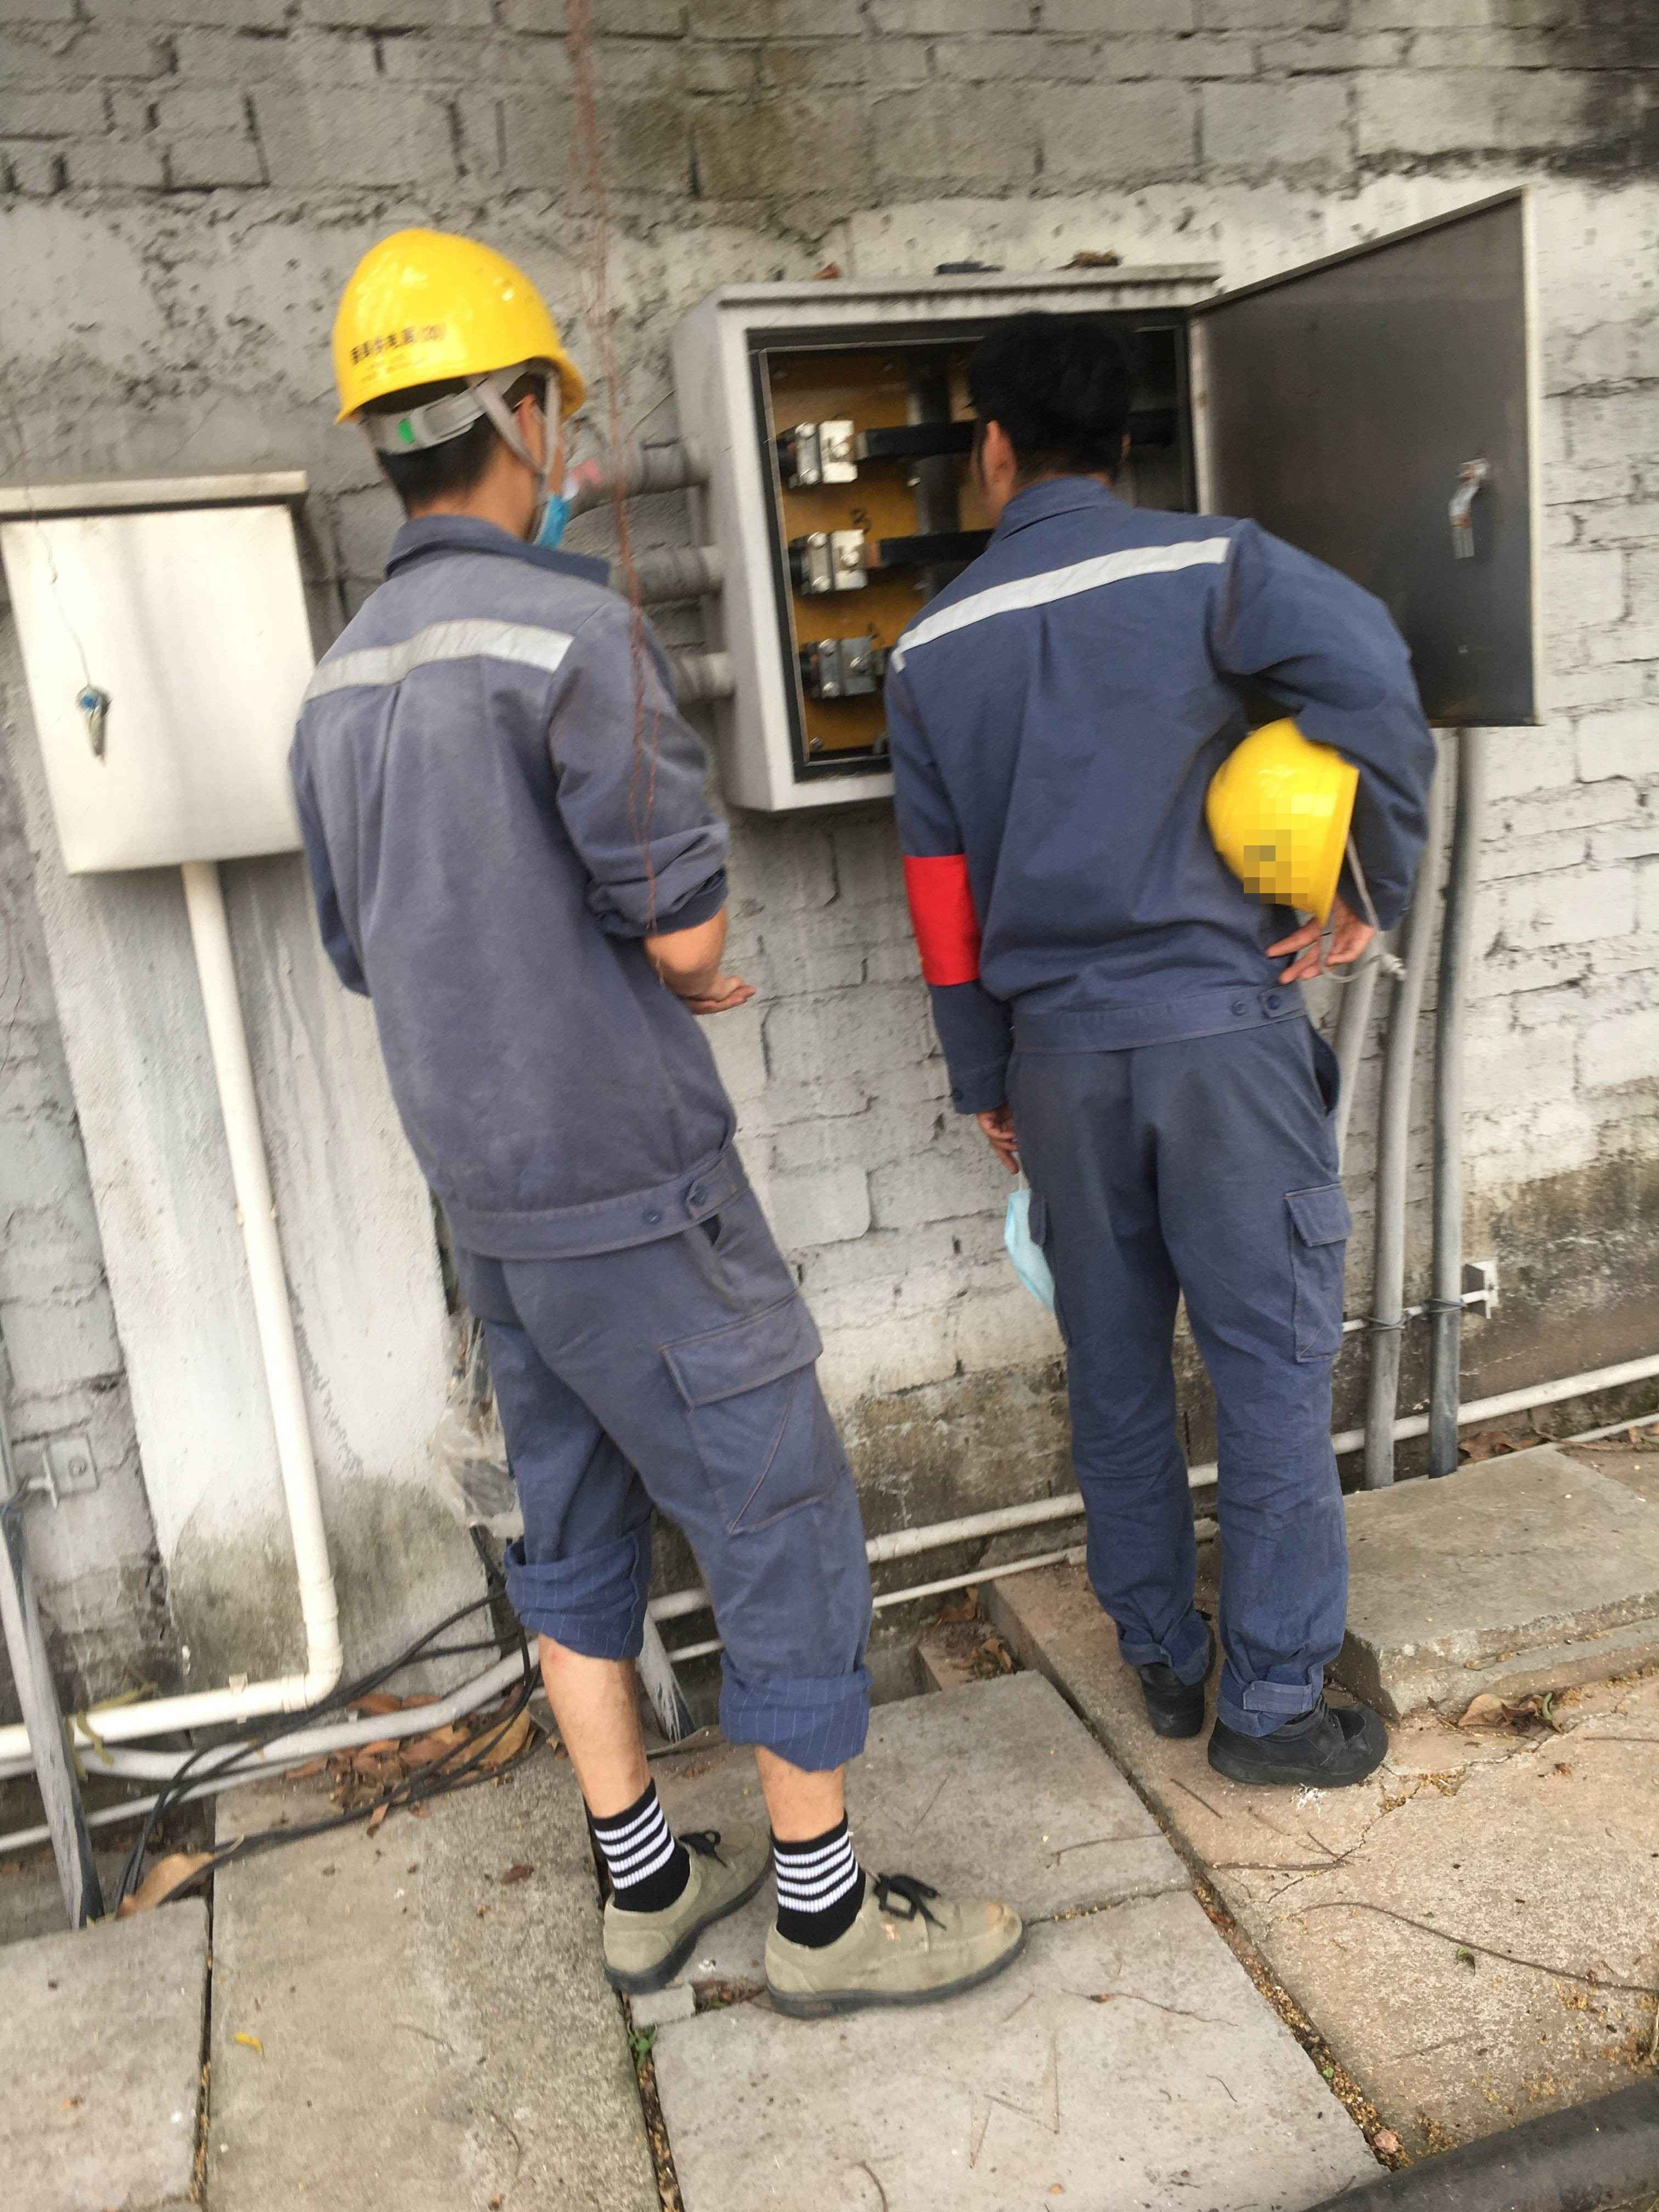downsuit: (1002, 1035, 1370, 1719), (462, 1242, 885, 1771)
upsuit: (896, 495, 1452, 1080), (295, 550, 725, 1228)
wrongbottom: (518, 1568, 676, 1872), (714, 1630, 880, 1911)
